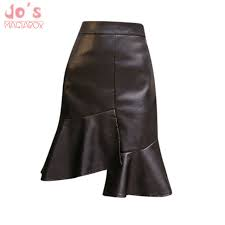S_skirt: (30, 15, 179, 204)
